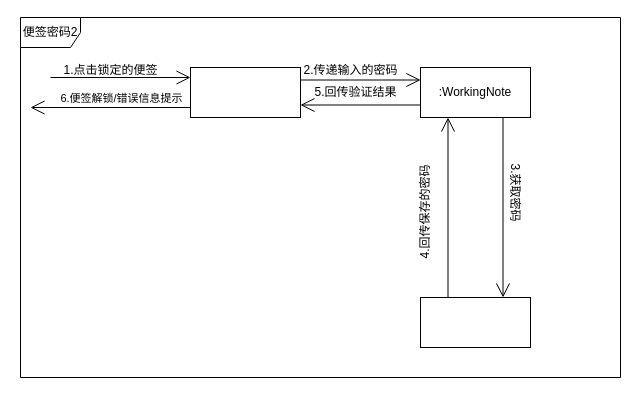
The diagram is 638 pixels wide and 395 high, and some of its shapes have lost their labels. The shapes that lost their labels are listed below. From the top down, each one's centre as x and y in pixels, then its label:
At (245,92): ":NoteListActivity".
At (475,322): ":Notes".
